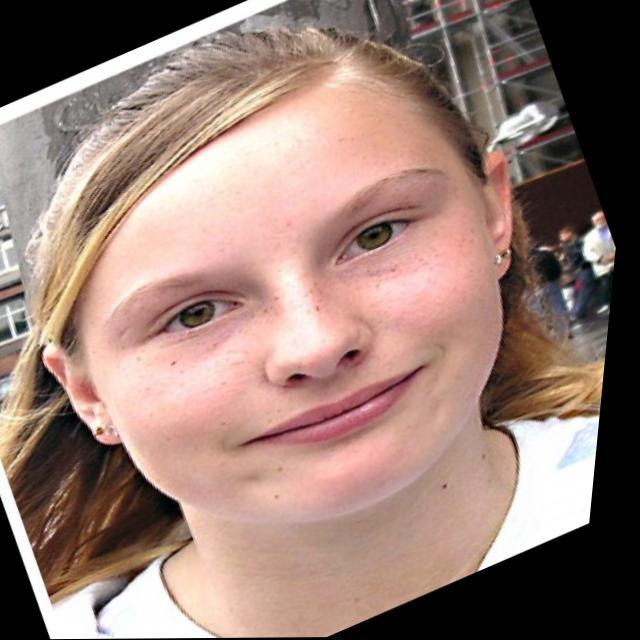Nonhelmet: (1, 20, 604, 598)
